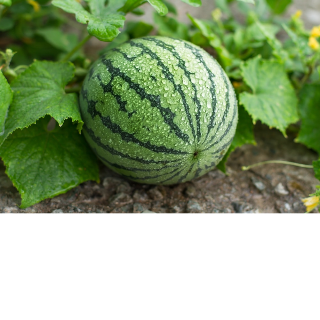dua_hau: (77, 33, 237, 184)
